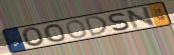D: (84, 15, 110, 38)
N: (125, 5, 158, 31)
O: (21, 26, 46, 48), (42, 23, 68, 42), (65, 20, 88, 39)
S: (108, 12, 132, 32)
